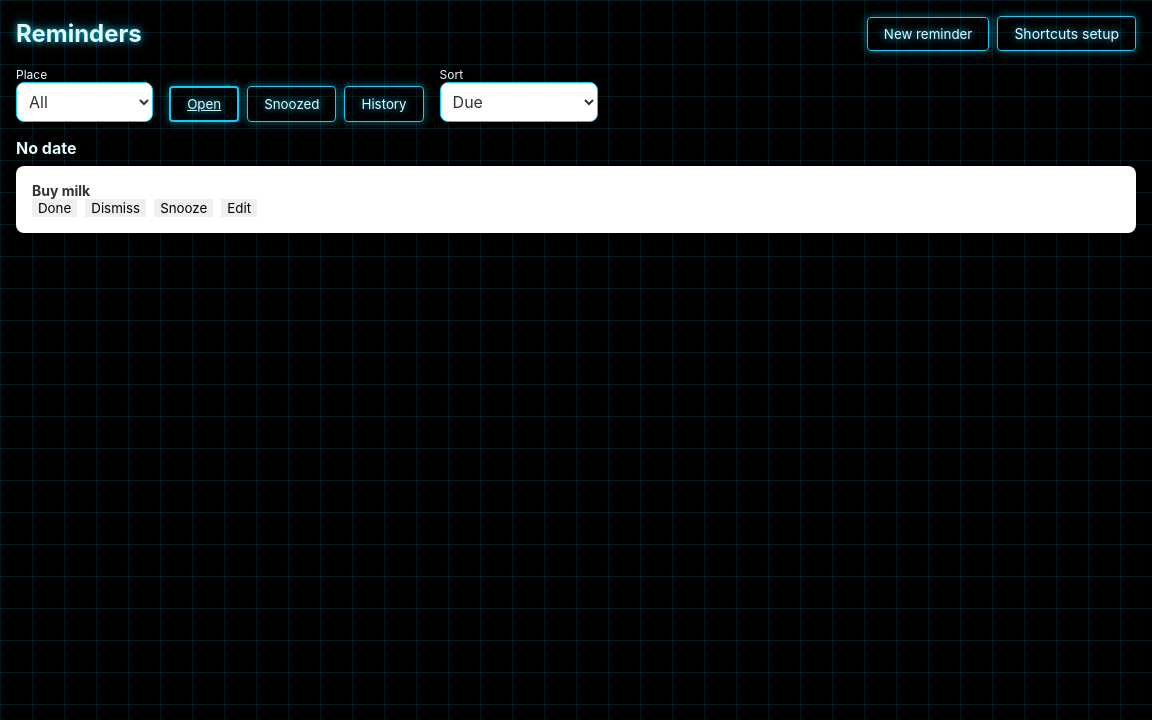
Test: RemindersPage › Delete in the edit dialog removes only after confirming and closes the dialog
The image size is (1152, 720).
Expected: the button "Delete" is not shown
Step 1. Click the button "Edit" → (239, 208), box [221, 199, 257, 217]
(page scrolled)
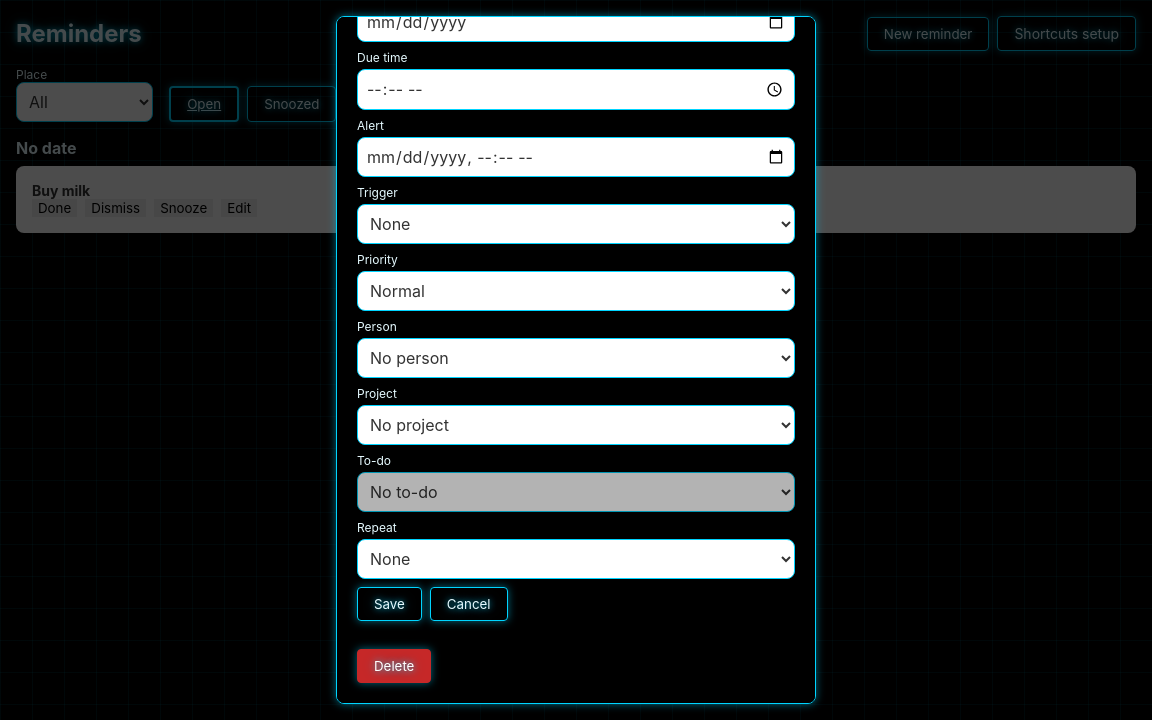
Step 2. Click the button "Delete" → (394, 666), box [357, 649, 431, 683]
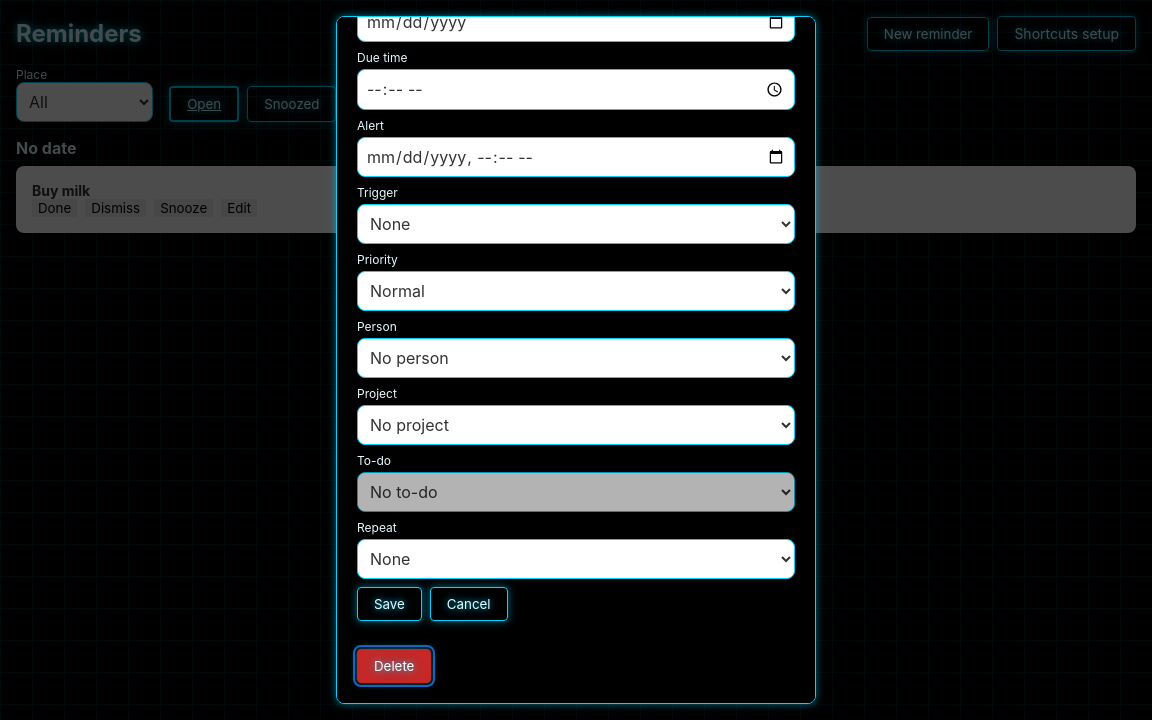
Now the dialog is shown, box [336, 16, 816, 704]
Step 3. Click the button "Delete" → (394, 666), box [357, 649, 431, 683]
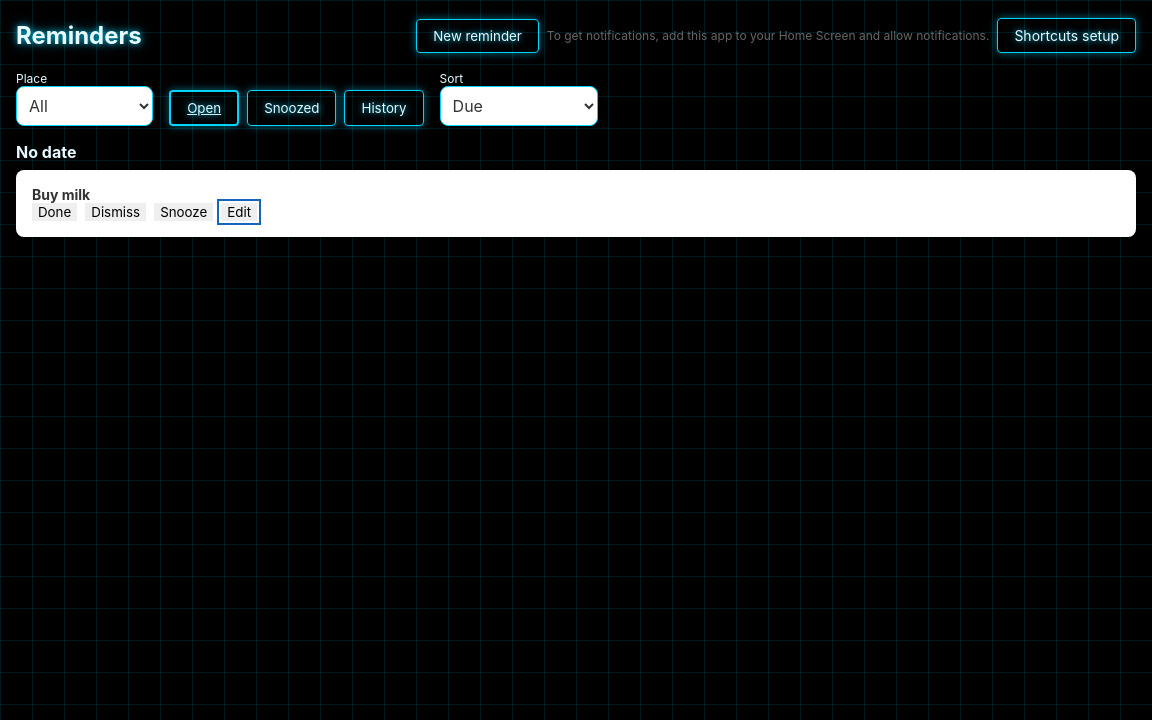
Now the dialog is gone
